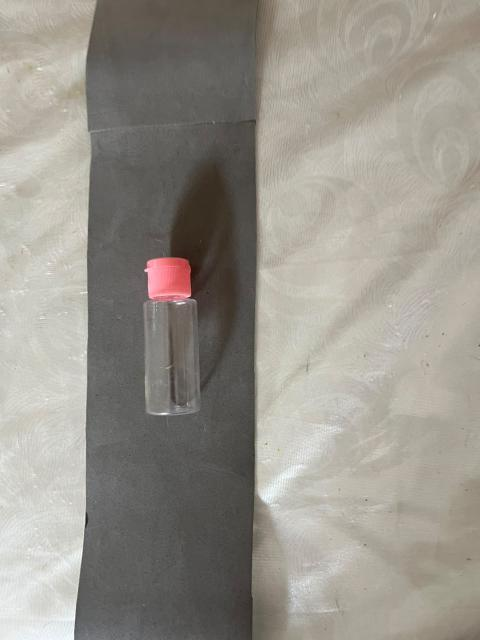PET: (95, 216, 265, 450)
